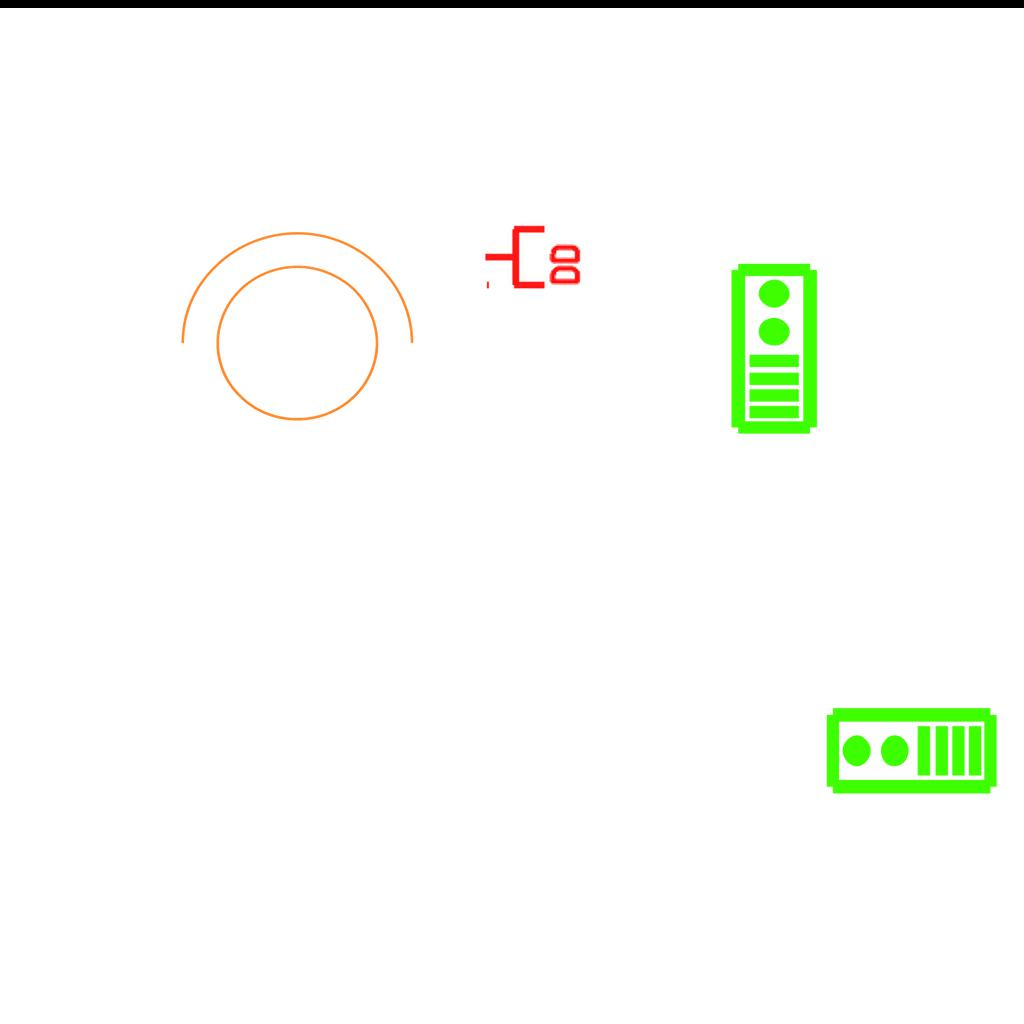Datenanschluss_zweifach: (482, 221, 585, 290)
Gegensprechanlage_mit_Video: (725, 260, 820, 436), (823, 705, 999, 800)
Scheinwerfer_fuer_Alarmbeleuchtung: (159, 221, 423, 446)
